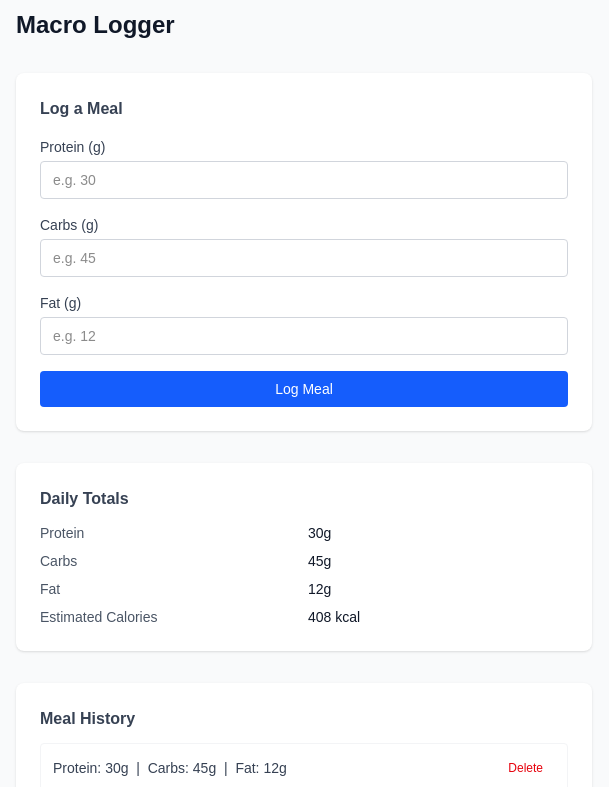
Test: MacroLogPage › POST failure: shows error, rolls back entries and totals, button returns to Log Meal
Expected: the text "408 kcal" is shown, x1=308 y1=609 x2=360 y2=625
Type "50" into the field labelled "Protein (g)" at [304, 180], box x1=40 y1=161 x2=568 y2=199
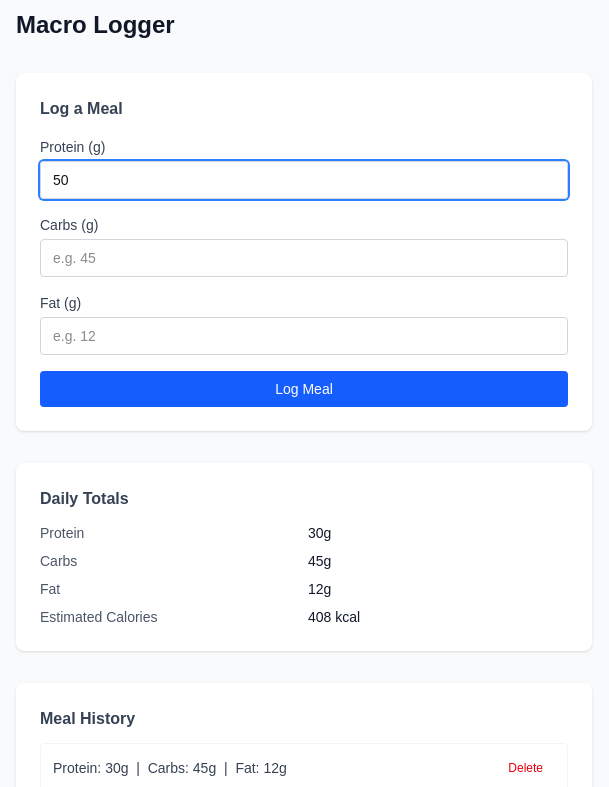
Type "80" into the field labelled "Carbs (g)" at [304, 258], box x1=40 y1=239 x2=568 y2=277
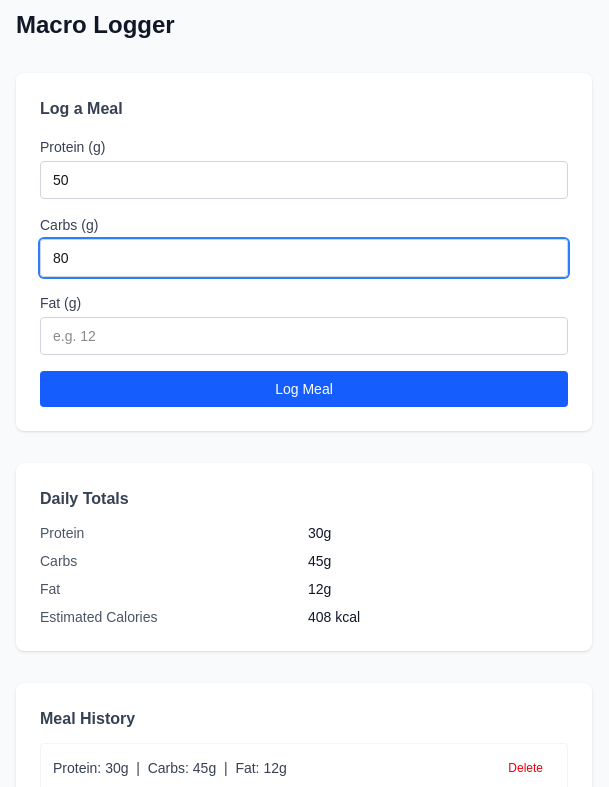
Type "20" into the field labelled "Fat (g)" at [304, 336], box x1=40 y1=317 x2=568 y2=355
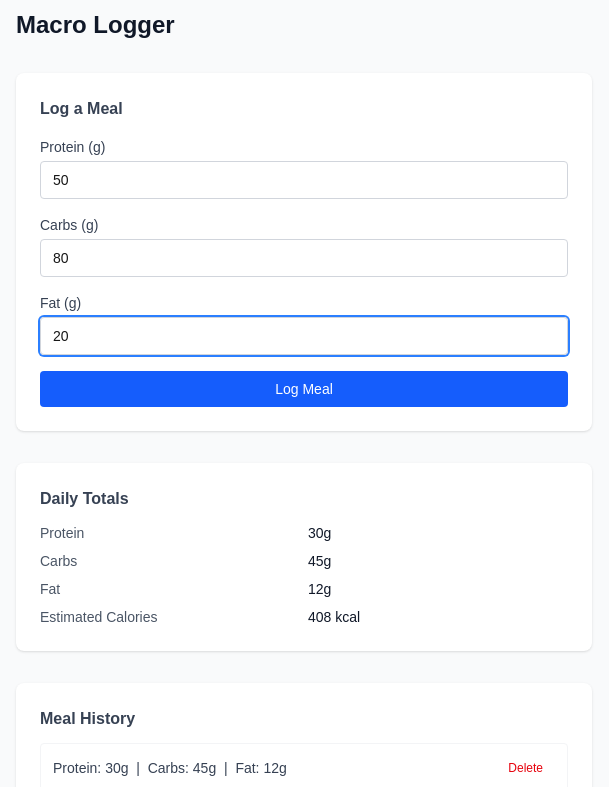
Click the button "Log Meal" at [304, 389], box x1=40 y1=371 x2=568 y2=407
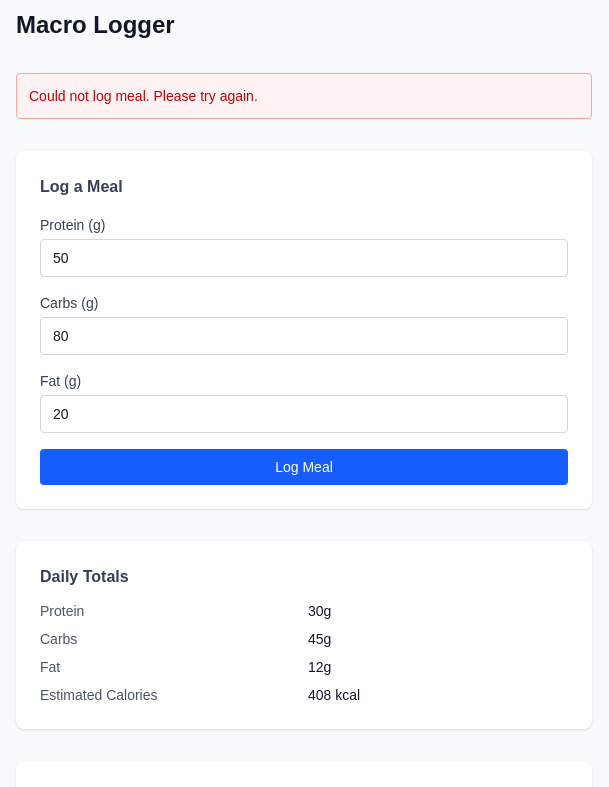
Expected: the button "Log Meal" is shown, x1=40 y1=449 x2=568 y2=485
Expected: the message "Could not log meal. Please try again." is shown, x1=16 y1=73 x2=592 y2=119
